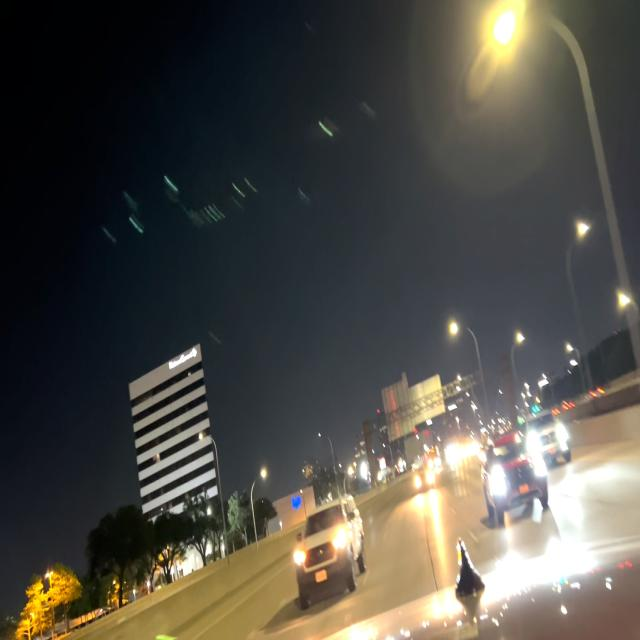back-of-sign: (381, 372, 446, 445)
